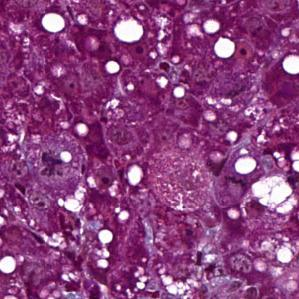ballooning: (249, 173, 299, 215)
